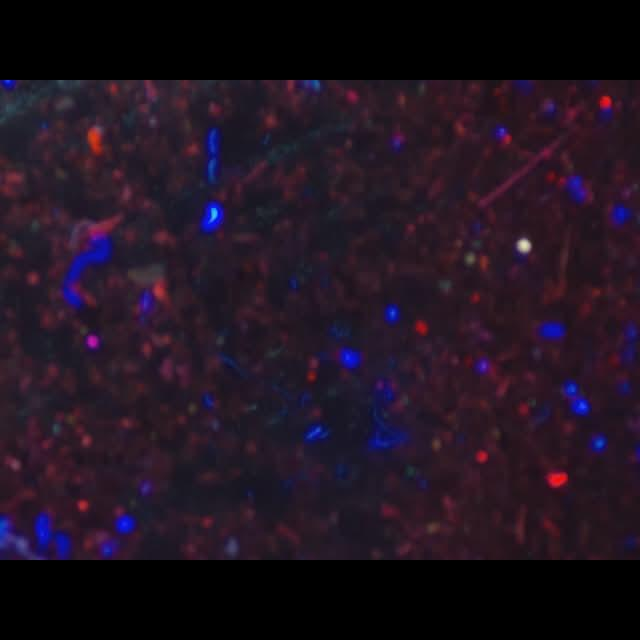microbeads: (516, 234, 532, 256)
